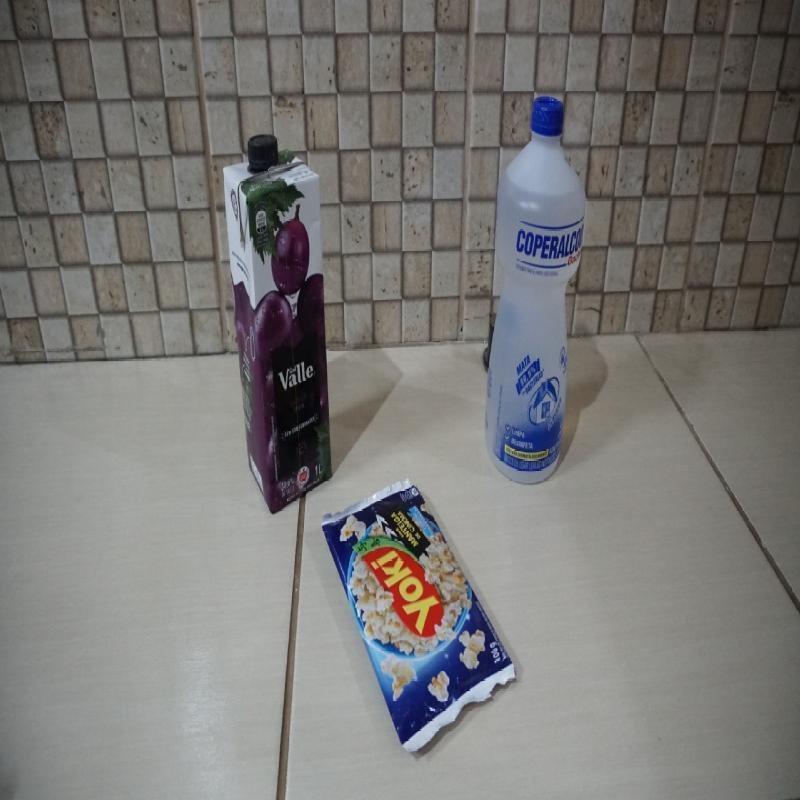Alcohol Bottle: (490, 92, 588, 478)
Popcorn: (328, 478, 510, 762)
